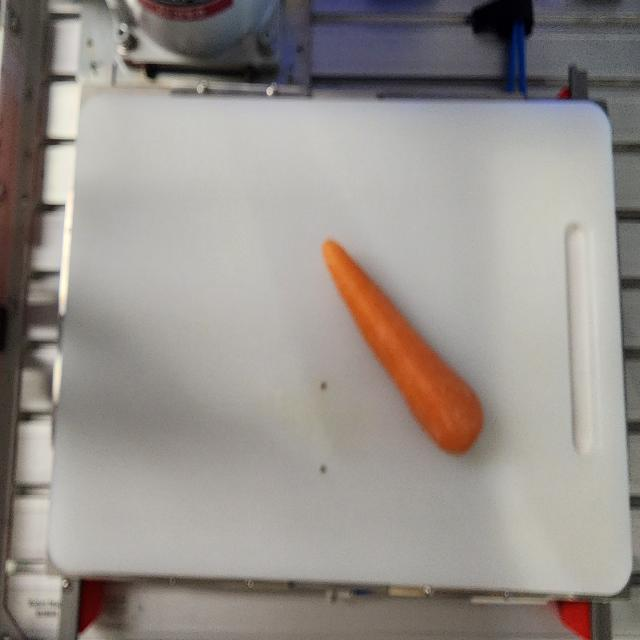carrot: (321, 238, 485, 457)
